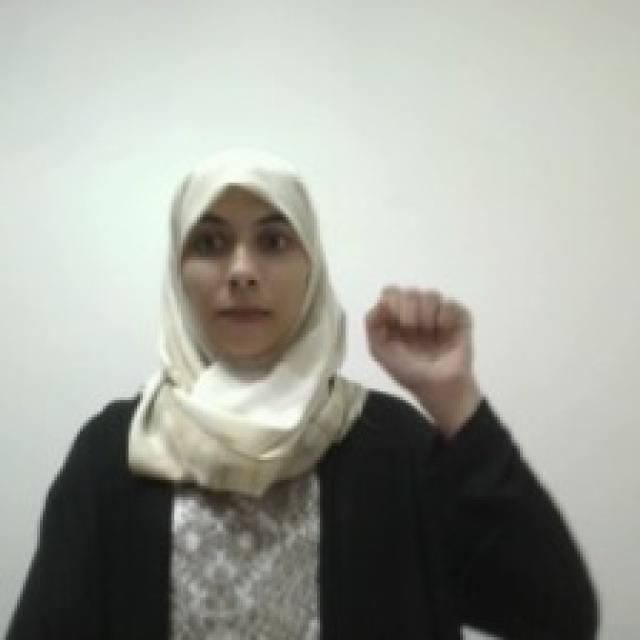yes: (362, 278, 480, 392)
